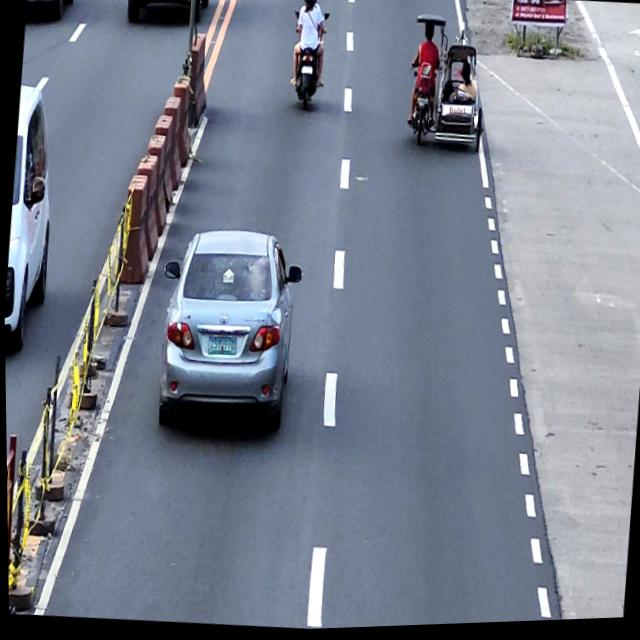Car: (149, 222, 306, 438), (1, 73, 64, 353), (124, 0, 210, 29), (25, 0, 77, 22)
License-Plate: (204, 333, 237, 359), (300, 65, 314, 78)
Motorcycle: (285, 10, 330, 114)
Tricycle: (402, 13, 491, 158)
